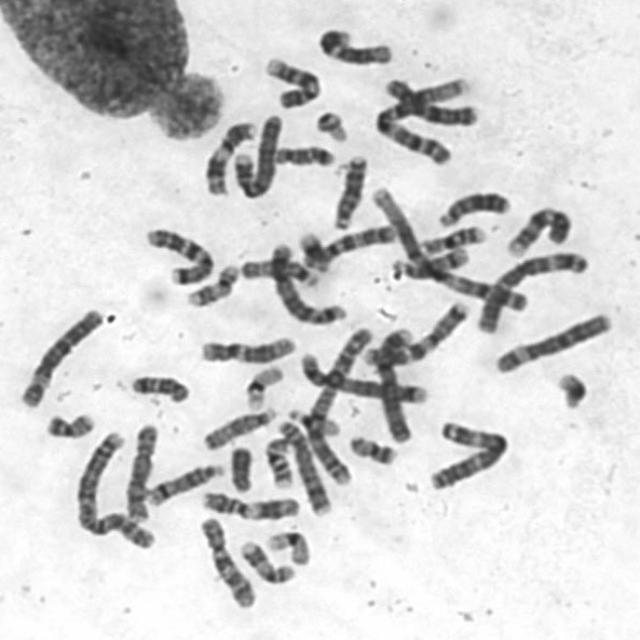A1: (370, 188, 532, 314), (371, 78, 473, 168)
A2: (304, 326, 374, 484), (73, 429, 160, 552)
A3: (477, 251, 591, 336), (425, 419, 514, 491)
B4: (376, 326, 416, 444), (231, 113, 284, 199)
B5: (299, 352, 428, 406), (270, 242, 350, 326)
C10: (196, 517, 259, 610), (302, 223, 398, 270)
C11: (201, 119, 257, 197), (200, 490, 302, 523)
C12: (318, 25, 395, 68), (201, 336, 297, 366)
C6: (19, 308, 105, 410), (494, 312, 611, 375)
C7: (360, 300, 470, 365), (138, 226, 215, 285)
C8: (274, 419, 334, 519), (125, 422, 161, 522)
C9: (505, 206, 573, 260), (263, 56, 322, 109)
D13: (331, 154, 368, 232), (436, 191, 514, 227)
D14: (141, 463, 227, 509), (390, 247, 470, 285)
D15: (203, 406, 279, 452), (240, 256, 322, 290)
E16: (418, 223, 486, 257), (262, 436, 297, 488)
E17: (237, 537, 299, 587), (186, 263, 242, 308)
E18: (126, 373, 193, 405), (273, 144, 336, 169)
F19: (240, 365, 282, 412), (264, 528, 311, 567)
F20: (348, 436, 401, 466), (41, 412, 96, 440)
G21: (554, 371, 596, 411), (295, 230, 330, 274)
G22: (286, 408, 343, 436), (312, 112, 352, 142)
X: (384, 76, 480, 129)
Y: (227, 446, 254, 493)
